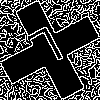L: (25, 25, 71, 78)
